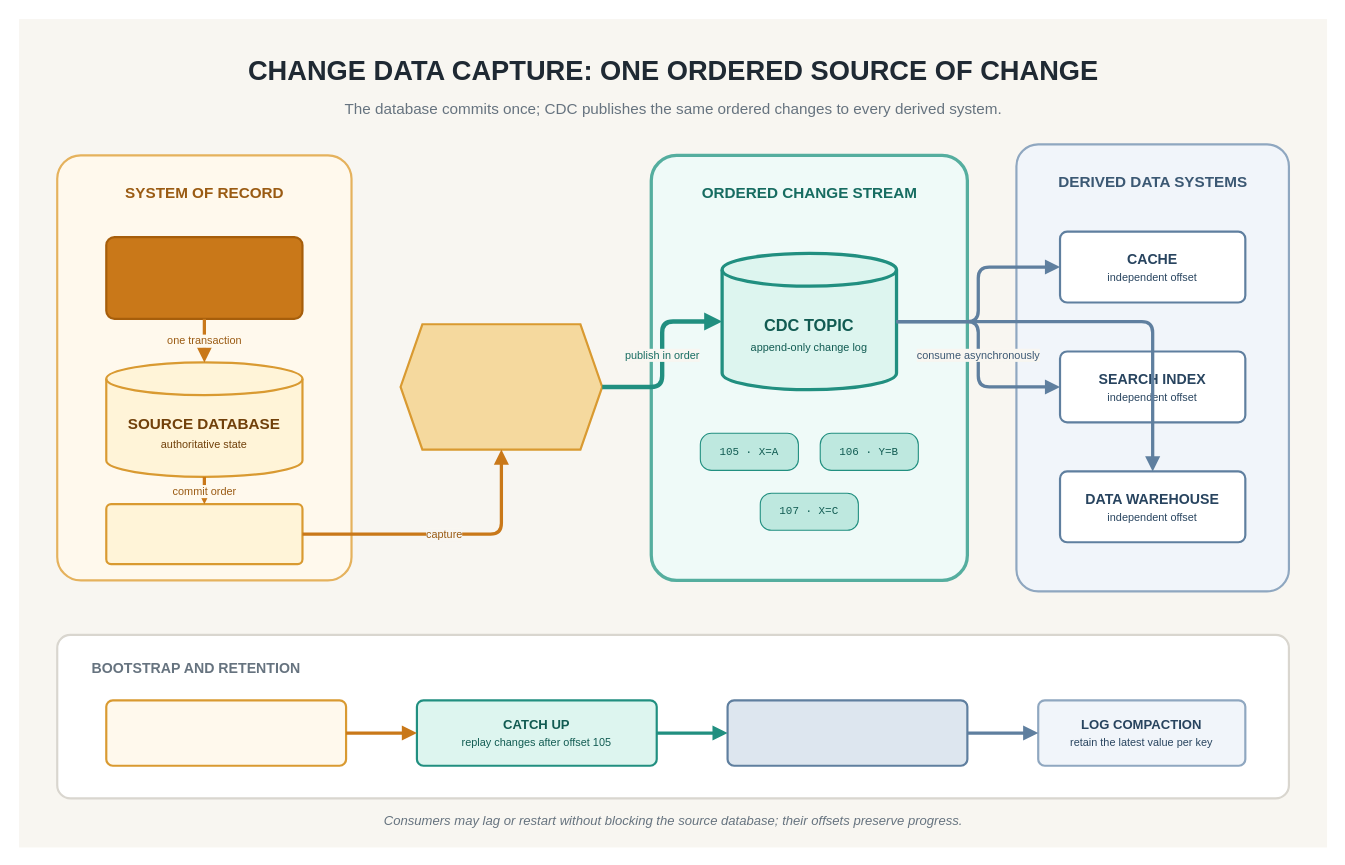
The diagram is 1345 pixels wide and 865 high, and some of its shapes have lost their labels. Here are the shapes that lost their labels. From the top down, the centre of each, then its label:
At pixel 204 277: "APPLICATION INSERT · UPDATE · DELETE".
At pixel 501 386: "CDC CONNECTOR reads and publishes changes".
At pixel 204 533: "REPLICATION LOG ordered committed changes".
At pixel 226 732: "INITIAL SNAPSHOT state captured at offset 105".
At pixel 847 732: "LIVE CONSUMPTION continue from the current offset".
